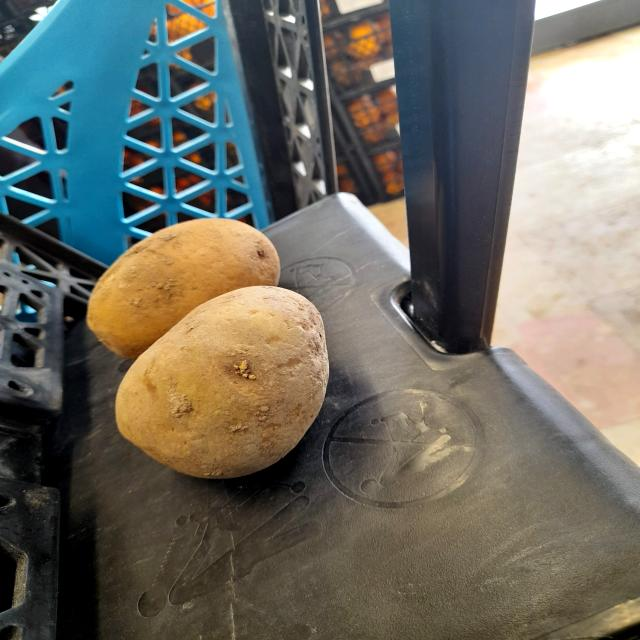potato: (86, 280, 362, 488), (64, 206, 293, 361)
